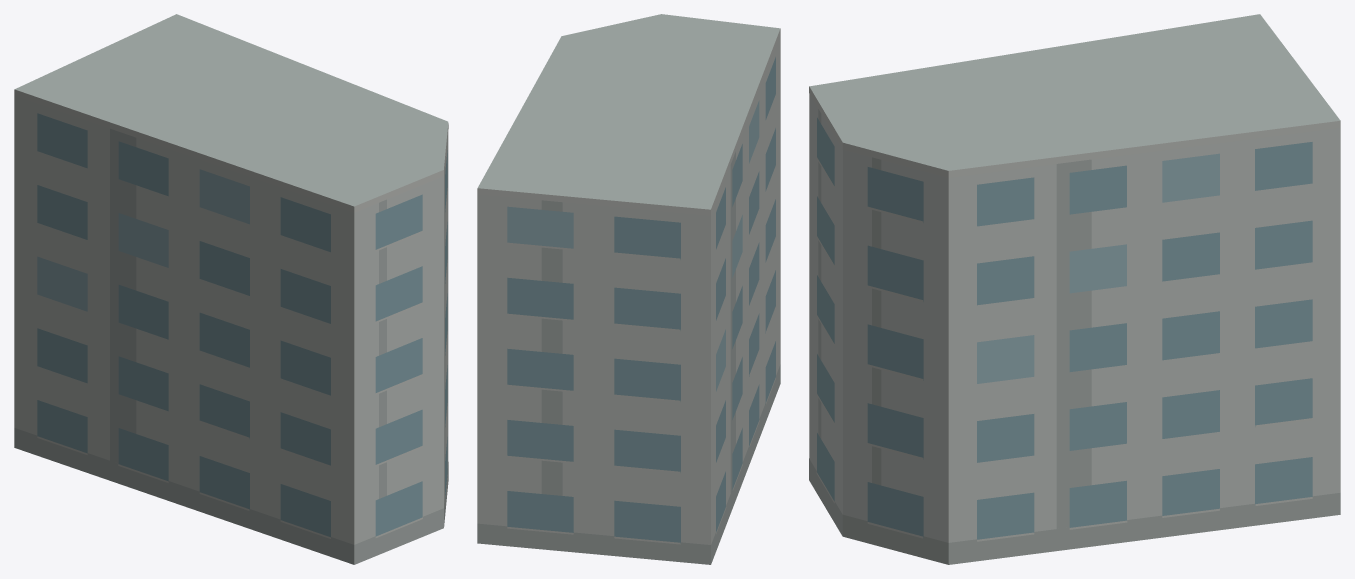
File: survey-upis-32837694.glb
3 views of the same model, side by side, from view 1: azimuth 30°, elevation 25°; view 2: azimuth 150°, elevation 25°; view 3: azimuth 270°, elevation 25° (orthographic). The views are drawn at different scales.
Visible parts, largest first — view 1: survey-upis-32837694.tmp; view 2: survey-upis-32837694.tmp; view 3: survey-upis-32837694.tmp.
Boxes of the visible parts, left/top/right/bottom form: survey-upis-32837694.tmp: left=14, top=14, right=448, bottom=564; survey-upis-32837694.tmp: left=477, top=14, right=780, bottom=564; survey-upis-32837694.tmp: left=809, top=14, right=1340, bottom=564.
Size of the model in its own units: 11.88 by 13.9 by 17.
